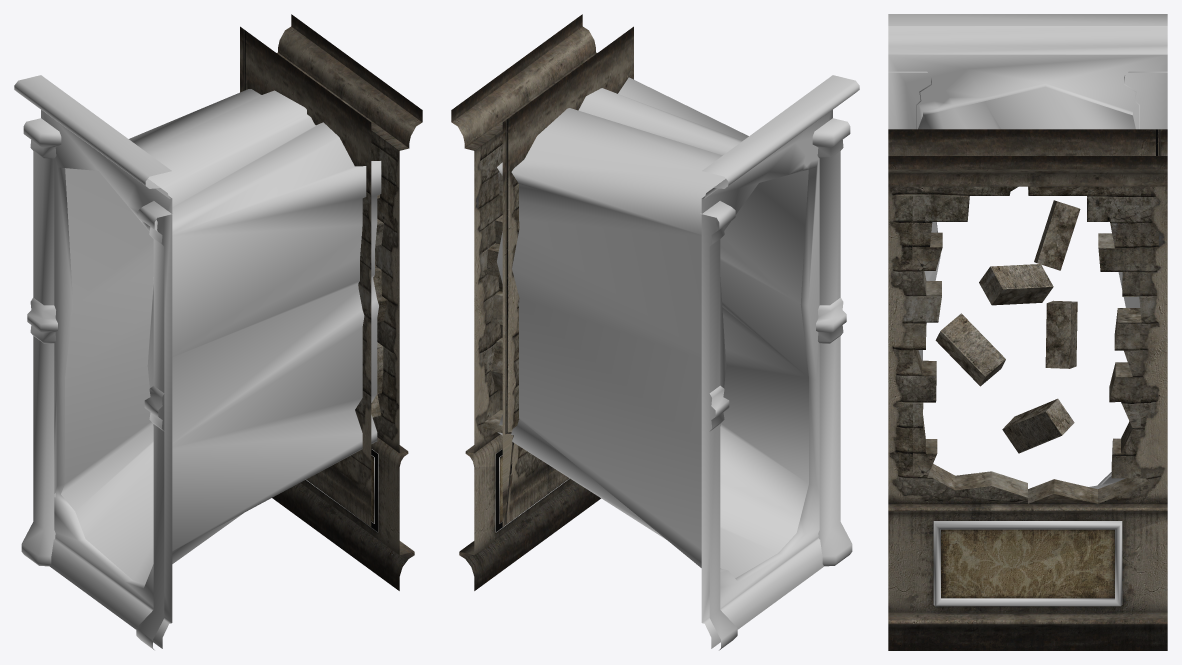
Rendered from mansionbase_secret_passage_broken.dae.
3 renders of one model, left to right at view 1: azimuth 30°, elevation 25°; view 2: azimuth 150°, elevation 25°; view 3: azimuth 270°, elevation 25°, orthographic. The views are drawn at different scales.
Parts seen in each view (by area): view 1: polySurface10, polySurface16, polySurface6; view 2: polySurface10, polySurface16, polySurface6; view 3: polySurface6, polySurface16, polySurface10, polySurface9, b2, b4, b1, b3, b5.
Boxes of the visible parts, box(x1,y1,x2,y2) form: polySurface10: box(61, 89, 381, 584); polySurface16: box(14, 75, 173, 650); polySurface6: box(240, 14, 422, 590); polySurface10: box(497, 77, 808, 578); polySurface16: box(700, 75, 859, 650); polySurface6: box(451, 14, 633, 590); polySurface6: box(888, 129, 1167, 650); polySurface16: box(888, 14, 1167, 485); polySurface10: box(918, 87, 1140, 488); polySurface9: box(933, 521, 1122, 606); b2: box(935, 313, 1005, 386); b4: box(979, 264, 1053, 305); b1: box(1002, 398, 1074, 453); b3: box(1045, 300, 1077, 368); b5: box(1034, 200, 1080, 270).
Bounding box in the file's own units: 2.44 × 4 × 2.
